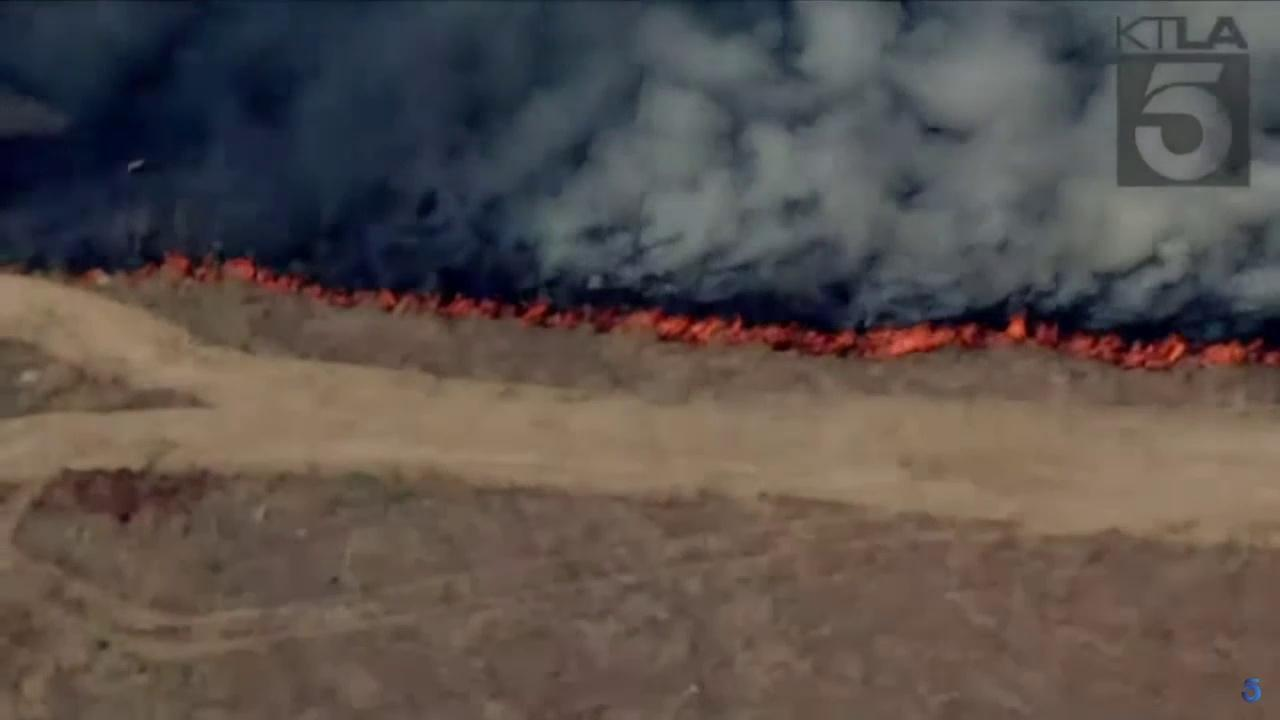fire: (77, 248, 1280, 373)
smoke: (0, 0, 1280, 342)
